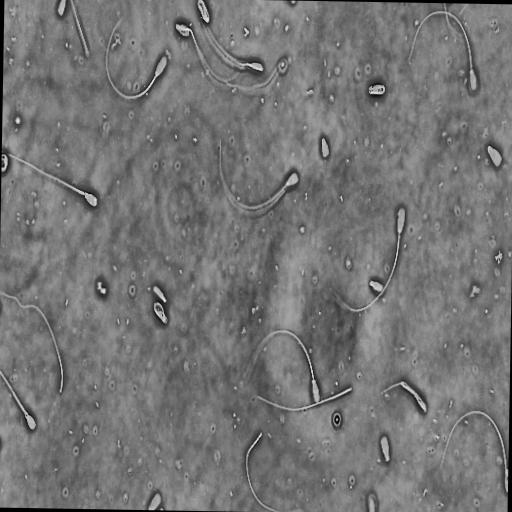coiled-tail: (153, 301, 167, 323), (199, 1, 209, 19), (368, 85, 385, 94)
dirt-particles: (95, 278, 108, 299)
folded-tail: (177, 24, 240, 81)
loose-head: (486, 142, 503, 170), (378, 431, 391, 464), (151, 283, 168, 305), (368, 277, 385, 294), (320, 135, 331, 161)
loose-tail: (0, 290, 65, 398), (247, 382, 353, 416), (243, 427, 281, 512)
normal: (340, 204, 406, 313), (407, 7, 479, 97), (218, 139, 300, 212), (2, 150, 99, 209), (105, 16, 169, 102), (255, 325, 322, 406), (173, 18, 241, 84), (200, 16, 265, 74), (0, 367, 38, 434), (151, 297, 169, 325), (366, 80, 388, 99), (196, 0, 211, 25), (502, 94, 512, 117), (504, 98, 512, 115)
